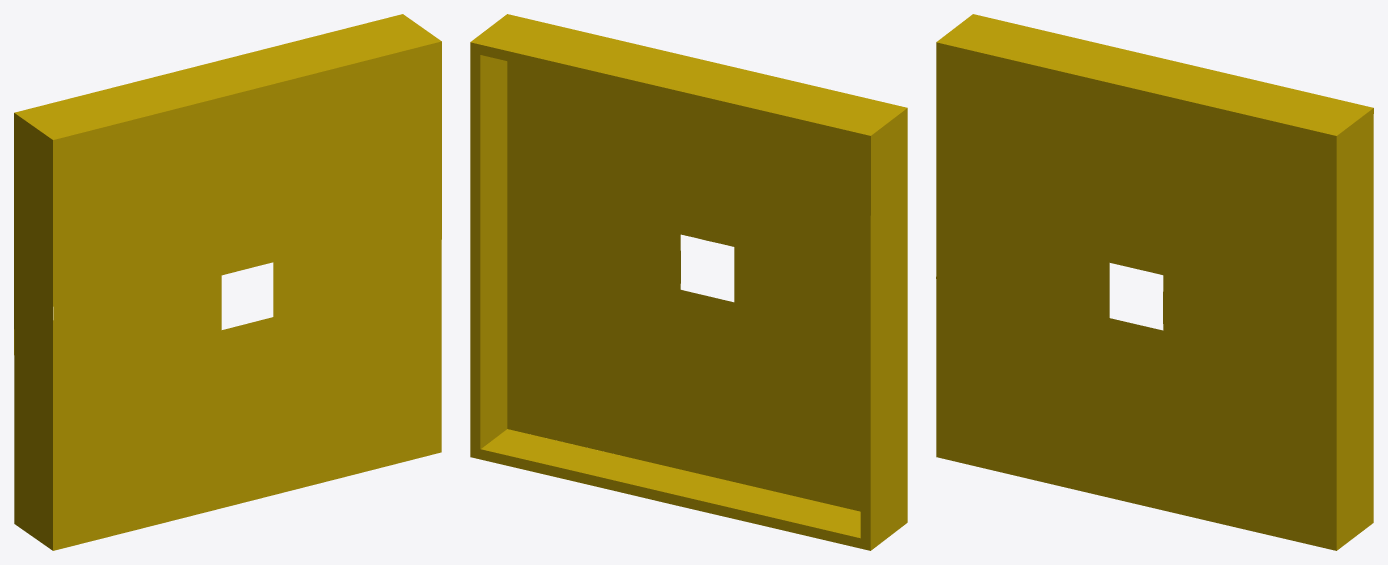
The model's file is original_5.obj.
3 views of the same model, side by side, from view 1: azimuth 30°, elevation 25°; view 2: azimuth 150°, elevation 25°; view 3: azimuth 330°, elevation 25° (orthographic).
Visible parts, largest first — view 1: mesh4/mesh4-geometry#mesh4-geometry; view 2: mesh4/mesh4-geometry#mesh4-geometry; view 3: mesh4/mesh4-geometry#mesh4-geometry.
Boxes of the visible parts, bbox=[...] form: mesh4/mesh4-geometry#mesh4-geometry: bbox=[14, 14, 441, 550]; mesh4/mesh4-geometry#mesh4-geometry: bbox=[470, 14, 907, 550]; mesh4/mesh4-geometry#mesh4-geometry: bbox=[936, 14, 1373, 550].
Size of the model in its own units: 0.6803 by 0.6785 by 0.1251.
